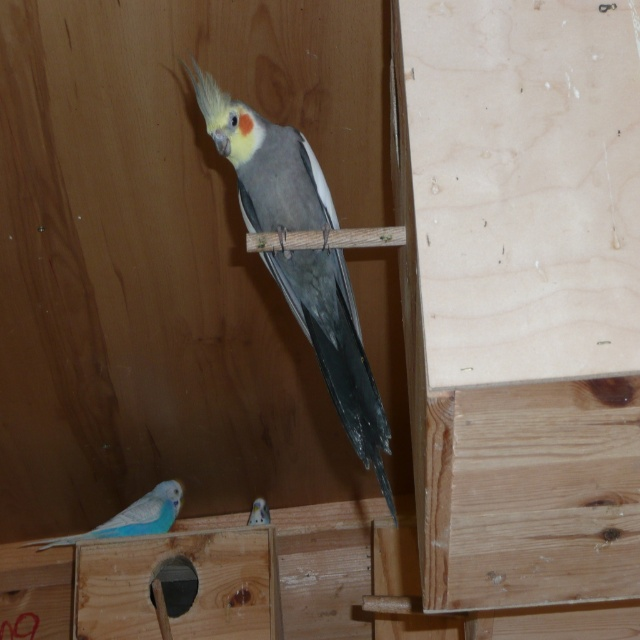Parrot: (190, 60, 391, 524), (41, 471, 176, 566), (248, 483, 274, 539)
